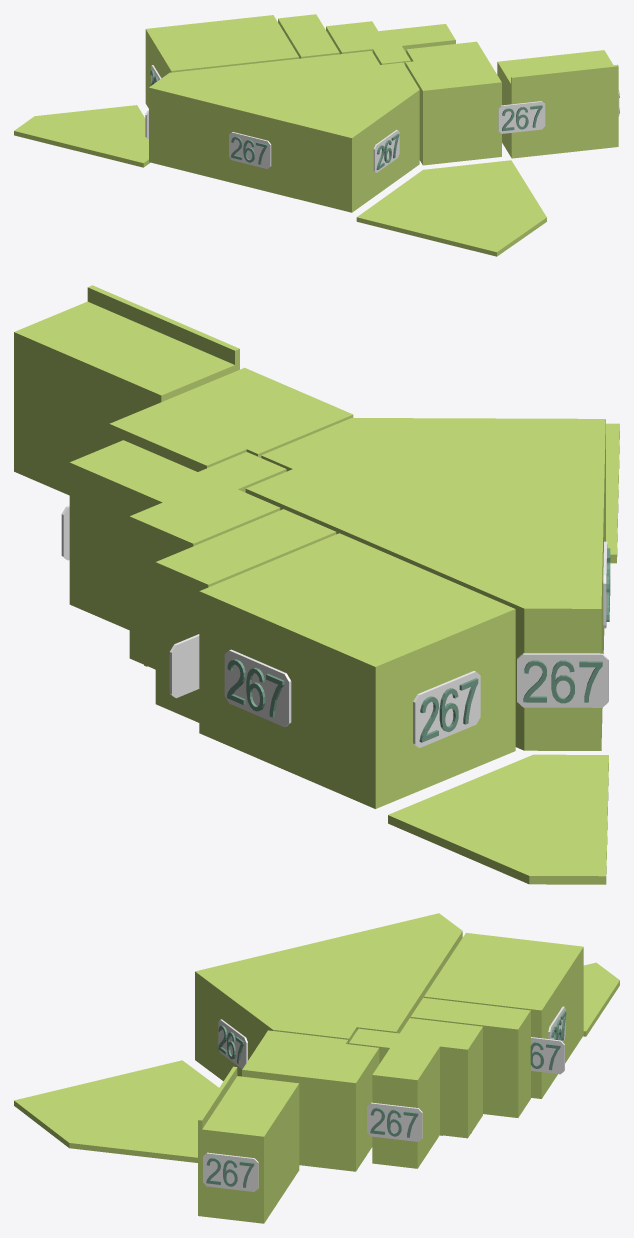
3 views of the same model, one above another, from view 1: azimuth 30°, elevation 25°; view 2: azimuth 150°, elevation 25°; view 3: azimuth 270°, elevation 25° (orthographic). The views are drawn at different scales.
Parts seen in each view (by area): view 1: g_0, g_7, g_5, g_4, g_1, g_6, g_3, g_2, g_43, g_23, g_31; view 2: g_1, g_0, g_5, g_3, g_6, g_4, g_2, g_15, g_35, g_39, g_7, g_27; view 3: g_0, g_7, g_3, g_4, g_1, g_5, g_2, g_6, g_11, g_19, g_27, g_31.
Boxes of the visible parts, x1,y1,x2,y2 form: g_0: (149, 51, 419, 212); g_7: (356, 160, 546, 256); g_5: (497, 50, 618, 158); g_4: (405, 41, 501, 165); g_1: (145, 15, 298, 108); g_6: (14, 105, 150, 167); g_3: (326, 21, 455, 65); g_2: (278, 14, 339, 58); g_43: (498, 101, 545, 133); g_23: (229, 132, 271, 168); g_31: (373, 130, 399, 172); g_1: (199, 533, 515, 808); g_0: (245, 418, 605, 750); g_5: (14, 285, 239, 495); g_3: (69, 440, 286, 669); g_6: (388, 754, 608, 884); g_4: (109, 367, 353, 471); g_2: (155, 509, 336, 722); g_15: (517, 653, 608, 707); g_35: (224, 649, 291, 727); g_39: (413, 671, 480, 747); g_7: (606, 423, 619, 563); g_27: (169, 634, 199, 698); g_0: (195, 913, 462, 1080); g_7: (14, 1060, 218, 1162); g_3: (349, 1018, 482, 1168); g_4: (242, 1030, 379, 1171); g_1: (424, 933, 583, 1098); g_5: (198, 1066, 299, 1223); g_2: (410, 997, 530, 1117); g_6: (583, 962, 619, 1036); g_11: (367, 1102, 422, 1141); g_19: (203, 1152, 258, 1191); g_27: (531, 1037, 564, 1074); g_31: (218, 1019, 247, 1069).
Bounding box in the file's own units: 15.8 × 2.85 × 15.46.
